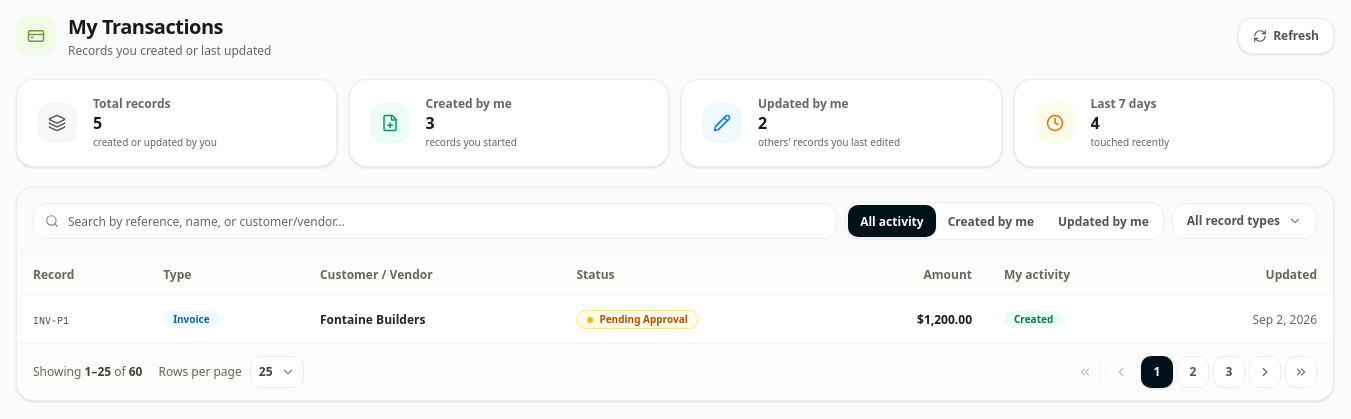
Test: TransactionsPage › pagination › turns pages with next / previous / numbered / last
Expected: the link "INV-P1" is shown, [33,314,69,327]
Click the button named "Next page": coordinates (1265, 372) [1249,356,1281,388]
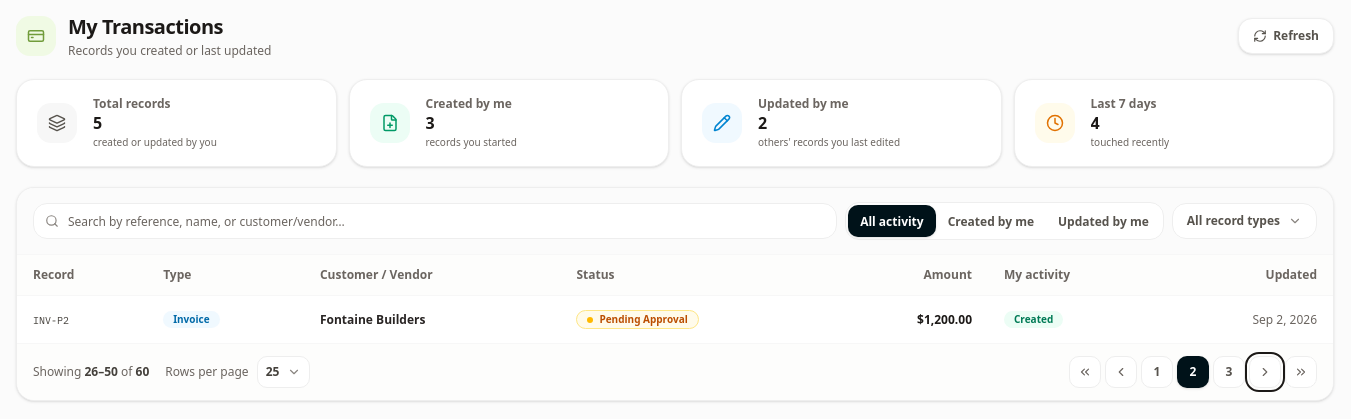
Expected: the link "INV-P2" is shown, [33,314,69,327]
Expected: the text "Showing 26–50 of 60" is shown, [33,364,149,380]
Click the button named "Last page": coordinates (1301, 372) [1285,356,1317,388]
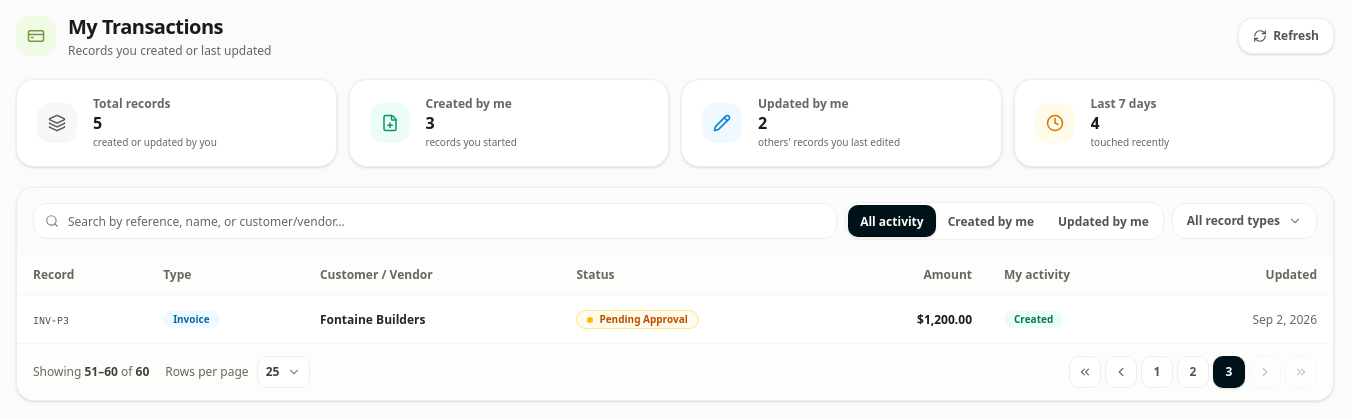
Expected: the button named "Next page" is disabled, [1249,356,1281,388]
Expected: the link "INV-P3" is shown, [33,314,69,327]
Expected: the text "Showing 51–60 of 60" is shown, [33,364,149,380]
Click the button named "Page 1": coordinates (1157, 372) [1141,356,1173,388]
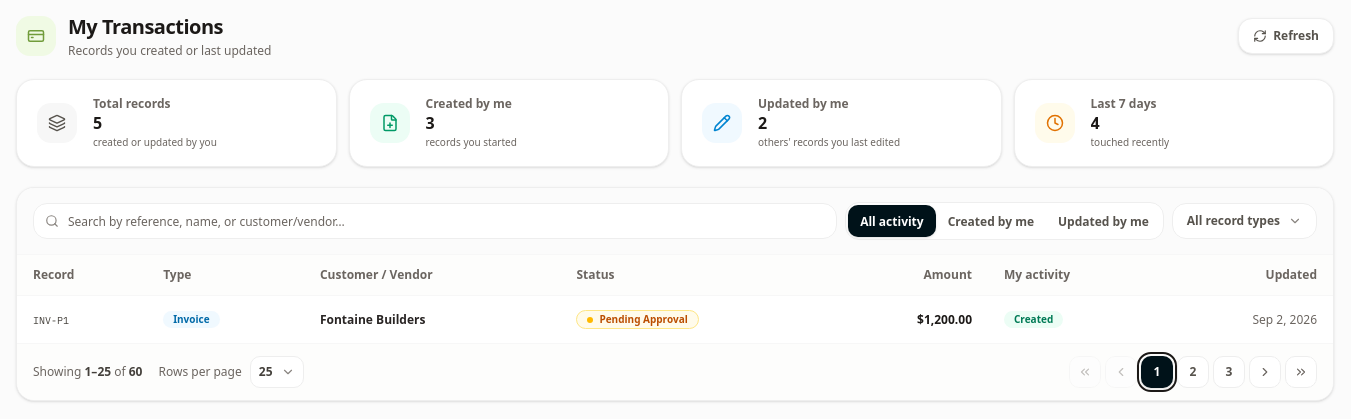
Expected: the button named "Previous page" is disabled, [1105,356,1137,388]
Expected: the link "INV-P1" is shown, [33,314,69,327]
